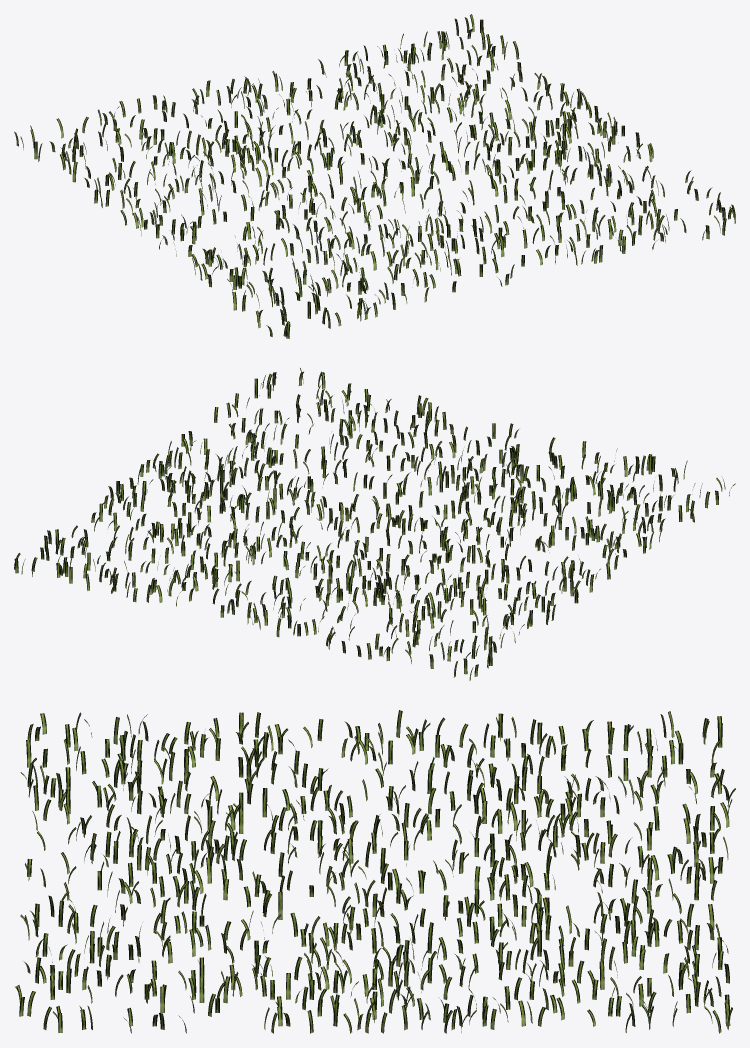
Rendered from Grass_Alpha_Plane_Short_Cut_Fly_Away.FBX.
The picture shows the model from 3 angles, top to bottom: view 1: azimuth 30°, elevation 25°; view 2: azimuth 150°, elevation 25°; view 3: azimuth 270°, elevation 25°; orthographic projection. The views are drawn at different scales.
Parts seen in each view (by area): view 1: Grass_Fly_Away001; view 2: Grass_Fly_Away001; view 3: Grass_Fly_Away001.
Part boxes in pixels (x1,y1,x2,y2): Grass_Fly_Away001: [14, 14, 735, 338]; Grass_Fly_Away001: [14, 368, 735, 680]; Grass_Fly_Away001: [15, 710, 735, 1033].
Size of the model in its own units: 609 by 25.44 by 610.
